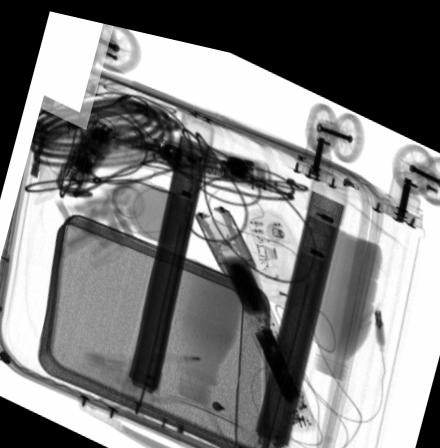Baton: (192, 195, 318, 417)
